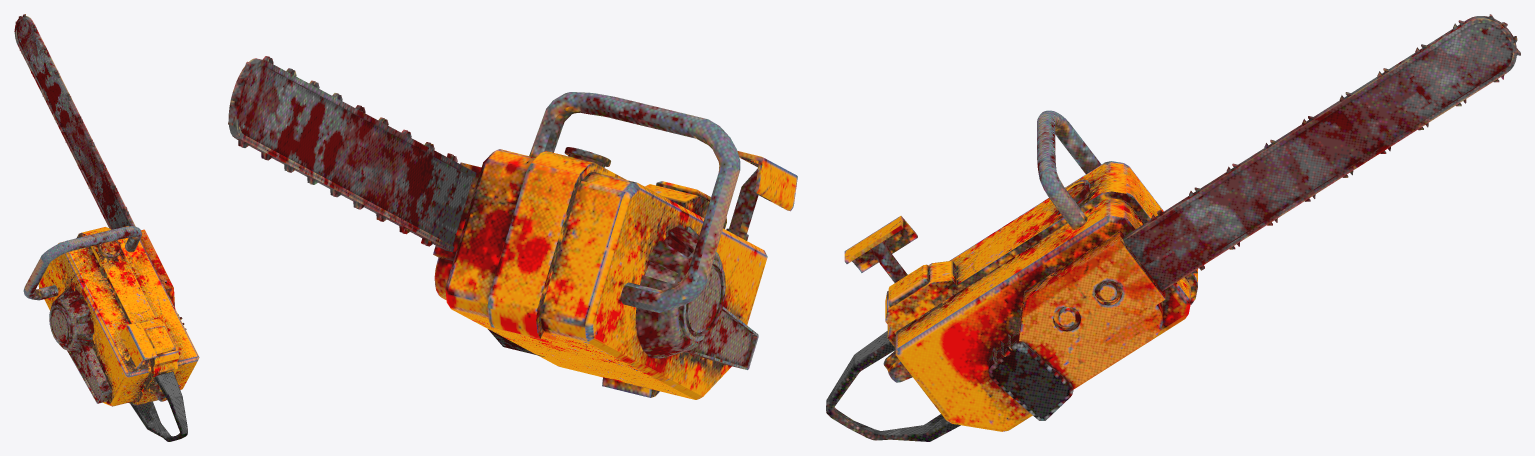
Rendered from Chainsaw_PSX_GLB.glb.
The picture shows the model from 3 angles, left to right: view 1: azimuth 30°, elevation 25°; view 2: azimuth 150°, elevation 25°; view 3: azimuth 270°, elevation 25°; orthographic projection. The views are drawn at different scales.
Visible parts, largest first — view 1: pCube24; view 2: pCube24; view 3: pCube24.
Boxes of the visible parts, x1,y1,x2,y2 form: pCube24: (14,14,199,441); pCube24: (228,56,797,399); pCube24: (826,14,1520,441).
Size of the model in its own units: 6.41 by 13.71 by 18.87.
1 material, 1 textured.
